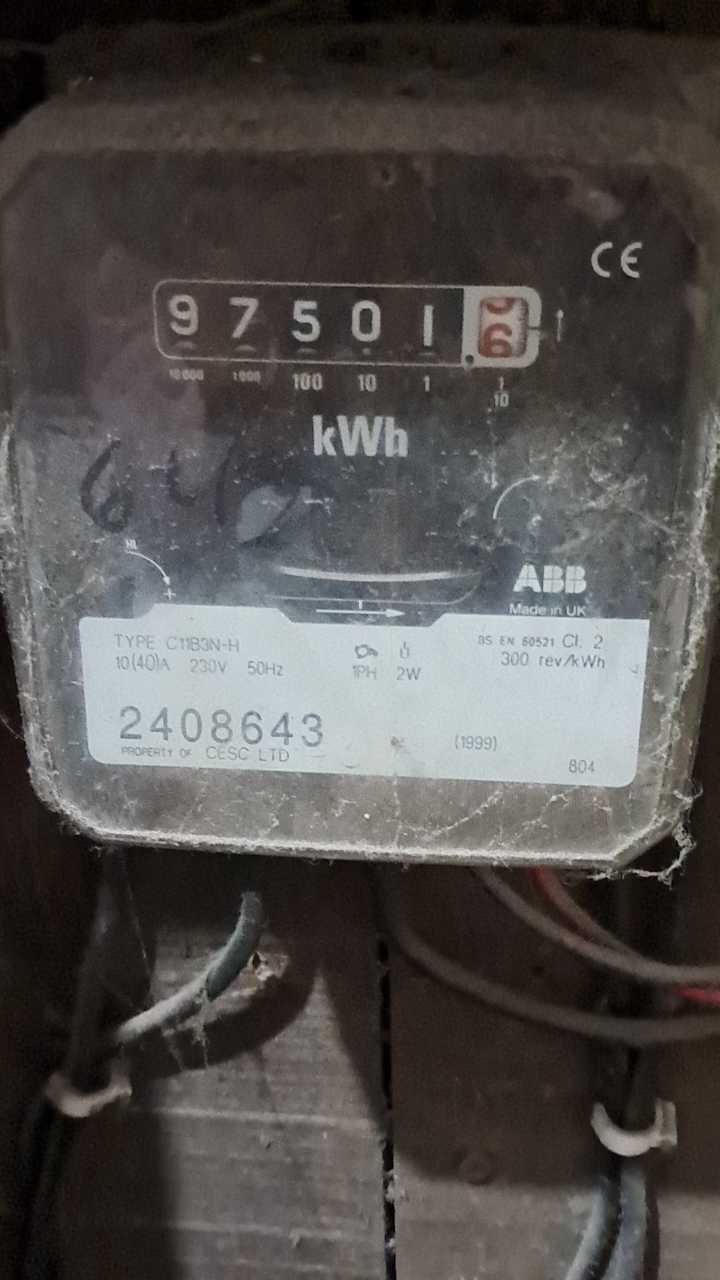meter_readings: (161, 283, 533, 361)
serial_number: (114, 702, 333, 751)
